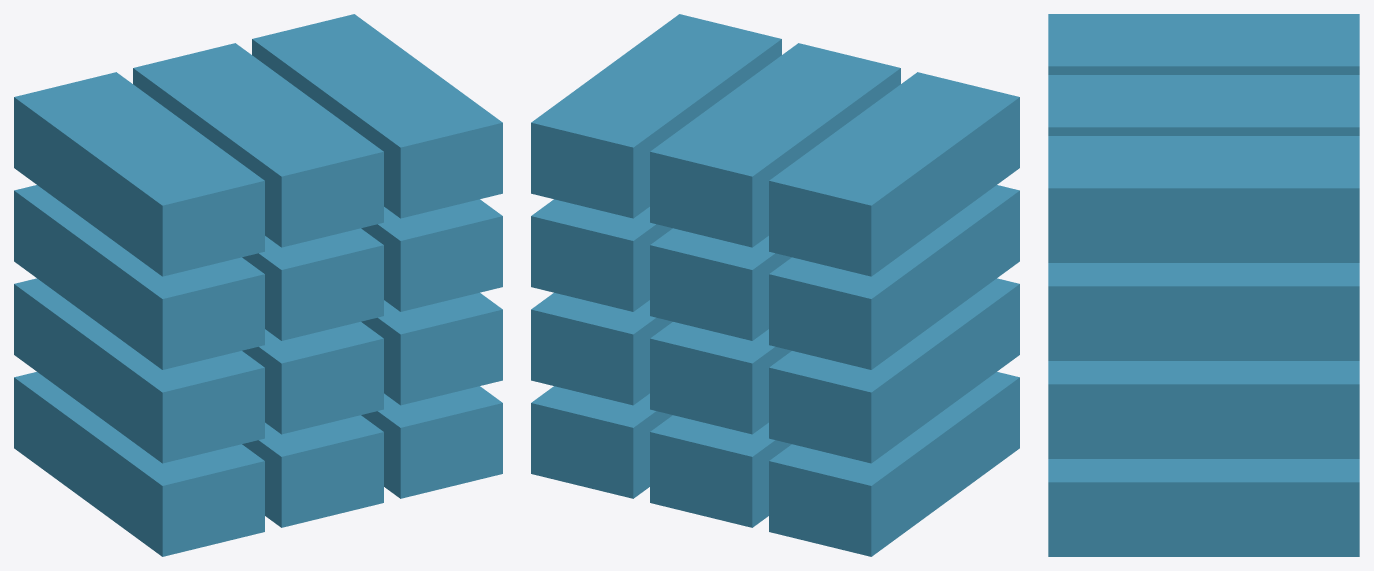
The model's file is FacadeKit_TowerWindowGrid_LOD2.glb.
3 views of the same model, side by side, from view 1: azimuth 30°, elevation 25°; view 2: azimuth 150°, elevation 25°; view 3: azimuth 270°, elevation 25° (orthographic). The views are drawn at different scales.
Visible parts, largest first — view 1: FacadeKit_TowerWindowGrid_LOD2; view 2: FacadeKit_TowerWindowGrid_LOD2; view 3: FacadeKit_TowerWindowGrid_LOD2.
Part boxes in pixels (left/top/right/bottom): FacadeKit_TowerWindowGrid_LOD2: left=14, top=14, right=502, bottom=556; FacadeKit_TowerWindowGrid_LOD2: left=531, top=14, right=1019, bottom=556; FacadeKit_TowerWindowGrid_LOD2: left=1048, top=14, right=1359, bottom=556.
Size of the model in its own units: 0.9533 by 0.94 by 0.72.
